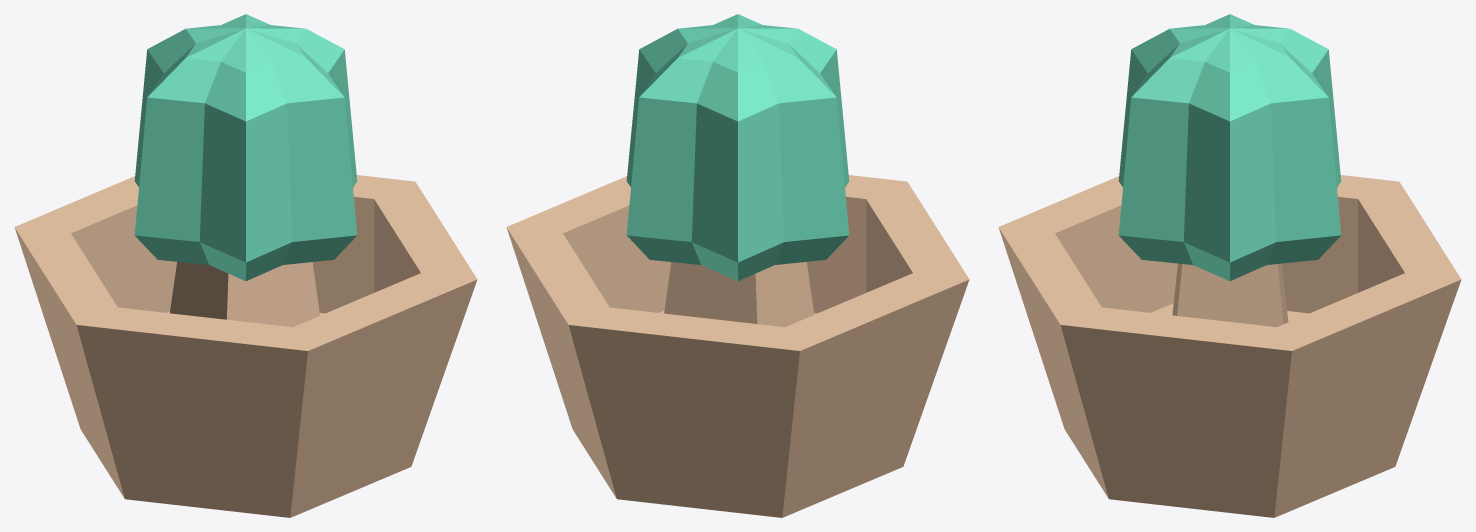
The model's file is kn-plant-small2.glb.
3 renders of one model, left to right at view 1: azimuth 30°, elevation 25°; view 2: azimuth 150°, elevation 25°; view 3: azimuth 270°, elevation 25°, orthographic.
Parts seen in each view (by area): view 1: plantSmall2(Clone); view 2: plantSmall2(Clone); view 3: plantSmall2(Clone).
Part boxes in pixels (x1,y1,x2,y2): plantSmall2(Clone): [14, 14, 477, 517]; plantSmall2(Clone): [506, 14, 969, 517]; plantSmall2(Clone): [998, 14, 1461, 517].
Bounding box in the file's own units: 1 × 1 × 1.
